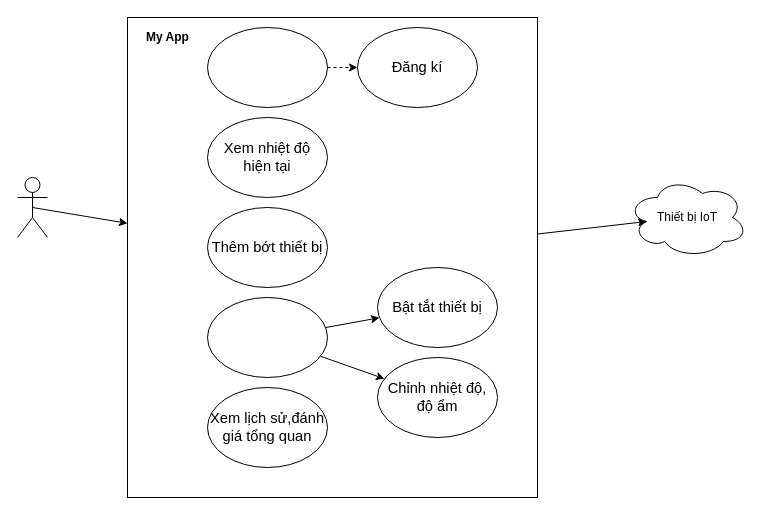
Image size: 765x515. Some labels were removed from this diagram. Here are the shapes that lost their labels. From the top down, the centre of each, then its label:
At (x=267, y=67): "Đăng nhập hệ thống".
At (x=32, y=207): "Actor".
At (x=267, y=337): "Điều chỉnh thiết bị (bật tắt,nhiệt độ)".
